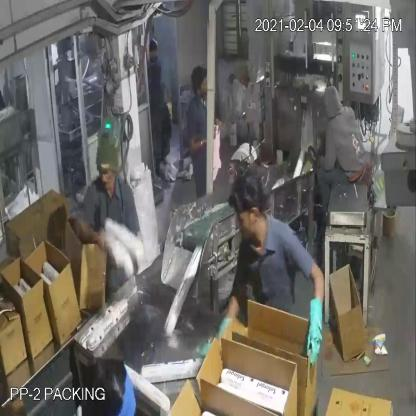glove: (302, 292, 330, 375)
no_glove: (68, 198, 118, 264), (184, 121, 212, 161)
